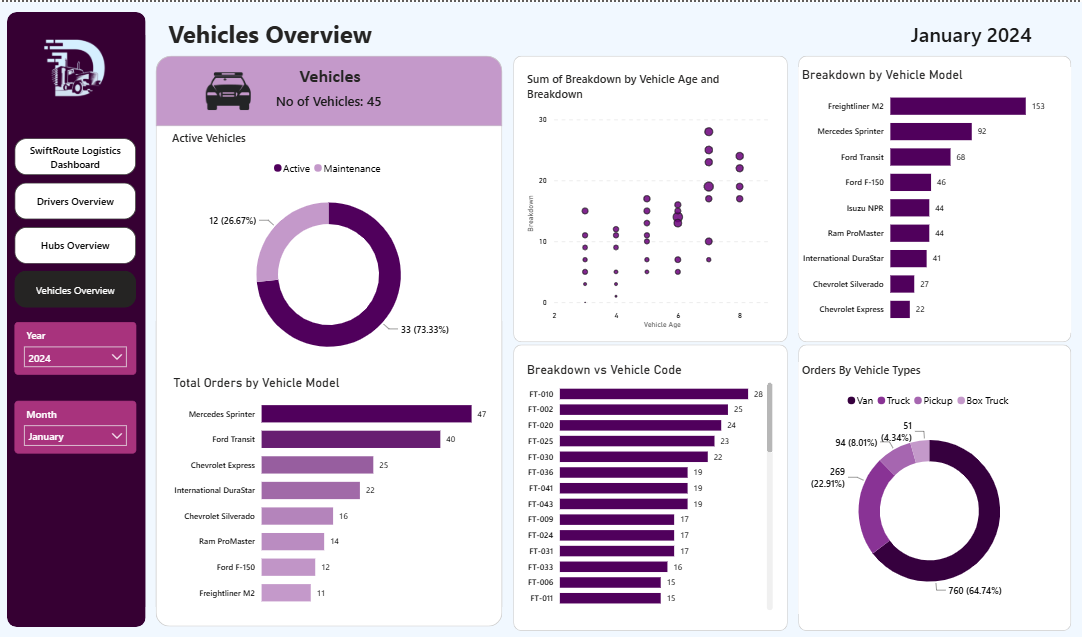

The page's visual inventory and layout, read from the dashboard file:
{"tool":"powerbi","page":{"name":"Vehicles Overview","canvas":[1450,850],"ordinal":3},"visuals":[{"type":"shape","box":[12.5,12.5,185,820],"z":0},{"type":"textbox","box":[222.5,15,503.3,56.7],"z":1000},{"type":"slicer","fields":{"Values":["Date Table.Year"]},"box":[23.7,426,162,70],"z":2000},{"type":"slicer","fields":{"Values":["Date Table.Month"]},"box":[23.7,531.7,162,70],"z":3000},{"type":"image","box":[55.7,28.6,98.6,125.7],"z":4000},{"type":"cardVisual","fields":{"Data":["Orders.Year Month Title"]},"box":[1182,16,235.7,48.6],"z":5000},{"type":"shape","box":[688,72,366,382],"z":6000},{"type":"shape","box":[212,76,462,756],"z":7000},{"type":"shape","box":[212,72,462,94],"z":8000},{"type":"cardVisual","fields":{"Data":["Vehicles.No of Vehicles"]},"box":[346,106,191.7,48.3],"z":9000},{"type":"textbox","box":[338,84,211.7,36.7],"z":10000},{"type":"donutChart","title":"Active Vehicles","fields":{"Category":["Vehicles.Vehicle Status"],"Y":["CountNonNull(Vehicles.Vehicle ID)"]},"box":[228,170,428,326],"z":11000},{"type":"barChart","fields":{"Category":["Vehicles.Vehicle Model"],"Y":["Orders.Total Orders"]},"box":[230,496,428,322],"z":12000},{"type":"shape","box":[1068,72,364,382],"z":13000},{"type":"shape","box":[688.4,456.4,366,382],"z":14000},{"type":"shape","box":[1068.4,456.4,364,382],"z":15000},{"type":"scatterChart","fields":{"X":["Vehicles.Vehicle Age"],"Y":["Vehicles.Breakdown"],"Size":["Sum(Vehicles.Breakdown)1"]},"box":[702,92,338,348],"z":16000},{"type":"barChart","title":"Breakdown vs Vehicle Code","fields":{"Category":["Vehicles.Vehicle Code"],"Y":["Sum(Vehicles.Breakdown)"]},"box":[702,480,338,336],"z":17000},{"type":"barChart","title":"Breakdown by Vehicle Model","fields":{"Category":["Vehicles.Vehicle Model"],"Y":["Sum(Vehicles.Breakdown)"]},"box":[1068,86,364,354],"z":18000},{"type":"donutChart","title":"Orders By Vehicle Types","fields":{"Category":["Orders.Vehicle Type"],"Y":["Orders.Total Orders"]},"box":[1068,480,350,336],"z":19000},{"type":"pageNavigator","box":[24,182,162,226],"z":20000},{"type":"image","box":[278,82,60,74],"z":21000}]}

Visuals, with their boxes on the page's 1450x850 design canvas (x1, y1, x2, y2). These are canvas units, not pixel positions in the 1082x637 screenshot, which may show the page scaled, cropped or inside an application window:
shape: l=12, t=12, r=198, b=832
textbox: l=222, t=15, r=726, b=72
slicer - Date Table.Year: l=24, t=426, r=186, b=496
slicer - Date Table.Month: l=24, t=532, r=186, b=602
image: l=56, t=29, r=154, b=154
cardVisual - Orders.Year Month Title: l=1182, t=16, r=1418, b=65
shape: l=688, t=72, r=1054, b=454
shape: l=212, t=76, r=674, b=832
shape: l=212, t=72, r=674, b=166
cardVisual - Vehicles.No of Vehicles: l=346, t=106, r=538, b=154
textbox: l=338, t=84, r=550, b=121
"Active Vehicles" donutChart: l=228, t=170, r=656, b=496
barChart - Vehicles.Vehicle Model x Orders.Total Orders: l=230, t=496, r=658, b=818
shape: l=1068, t=72, r=1432, b=454
shape: l=688, t=456, r=1054, b=838
shape: l=1068, t=456, r=1432, b=838
scatterChart - Vehicles.Vehicle Age x Vehicles.Breakdown: l=702, t=92, r=1040, b=440
"Breakdown vs Vehicle Code" barChart: l=702, t=480, r=1040, b=816
"Breakdown by Vehicle Model" barChart: l=1068, t=86, r=1432, b=440
"Orders By Vehicle Types" donutChart: l=1068, t=480, r=1418, b=816
pageNavigator: l=24, t=182, r=186, b=408
image: l=278, t=82, r=338, b=156
